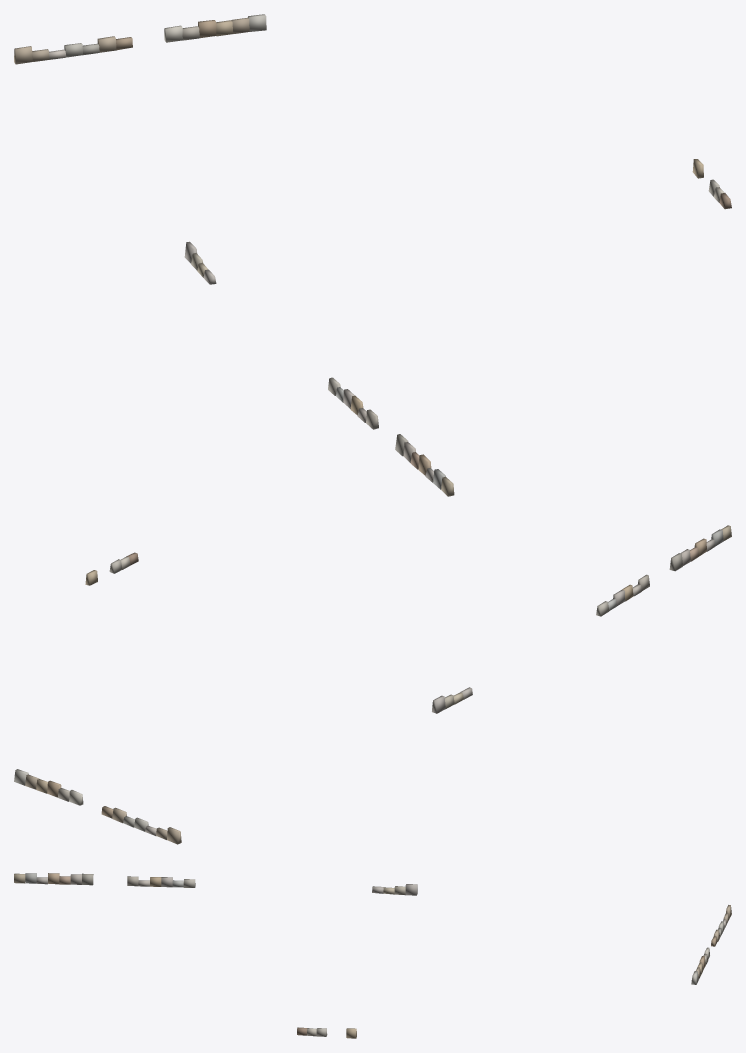
File: farm_17_18_far.glb
3 renders of one model, top to bottom at view 1: azimuth 30°, elevation 25°; view 2: azimuth 150°, elevation 25°; view 3: azimuth 270°, elevation 25°, orthographic. The views are drawn at different scales.
Visible parts, largest first — view 1: geometry_0; view 2: geometry_0; view 3: geometry_0.
Boxes of the visible parts, box(x1,y1,x2,y2) form: geometry_0: box(14, 14, 731, 496); geometry_0: box(14, 525, 731, 844); geometry_0: box(14, 873, 731, 1038).
Bounding box in the file's own units: 53.83 × 2.25 × 99.91.
